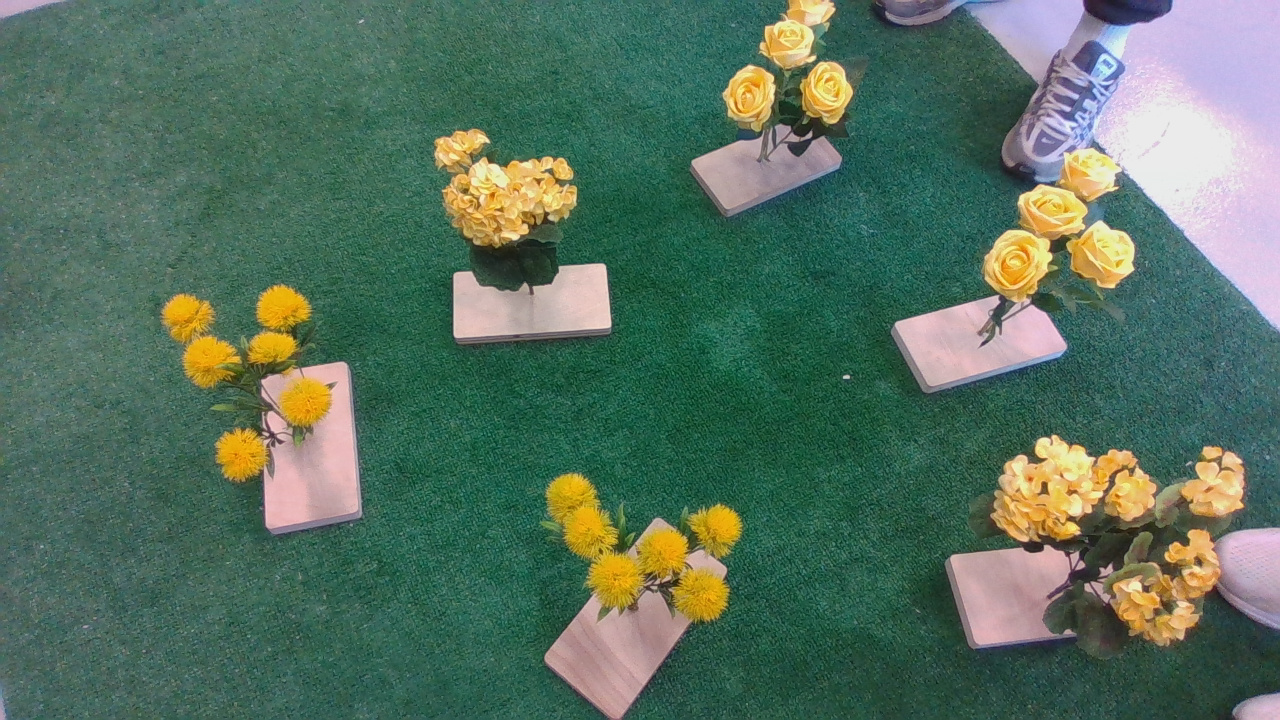dandelion: (151, 276, 352, 488), (529, 467, 753, 629)
geranium: (947, 432, 1257, 670), (416, 122, 602, 298)
rose: (968, 149, 1152, 349), (722, 0, 870, 165)
